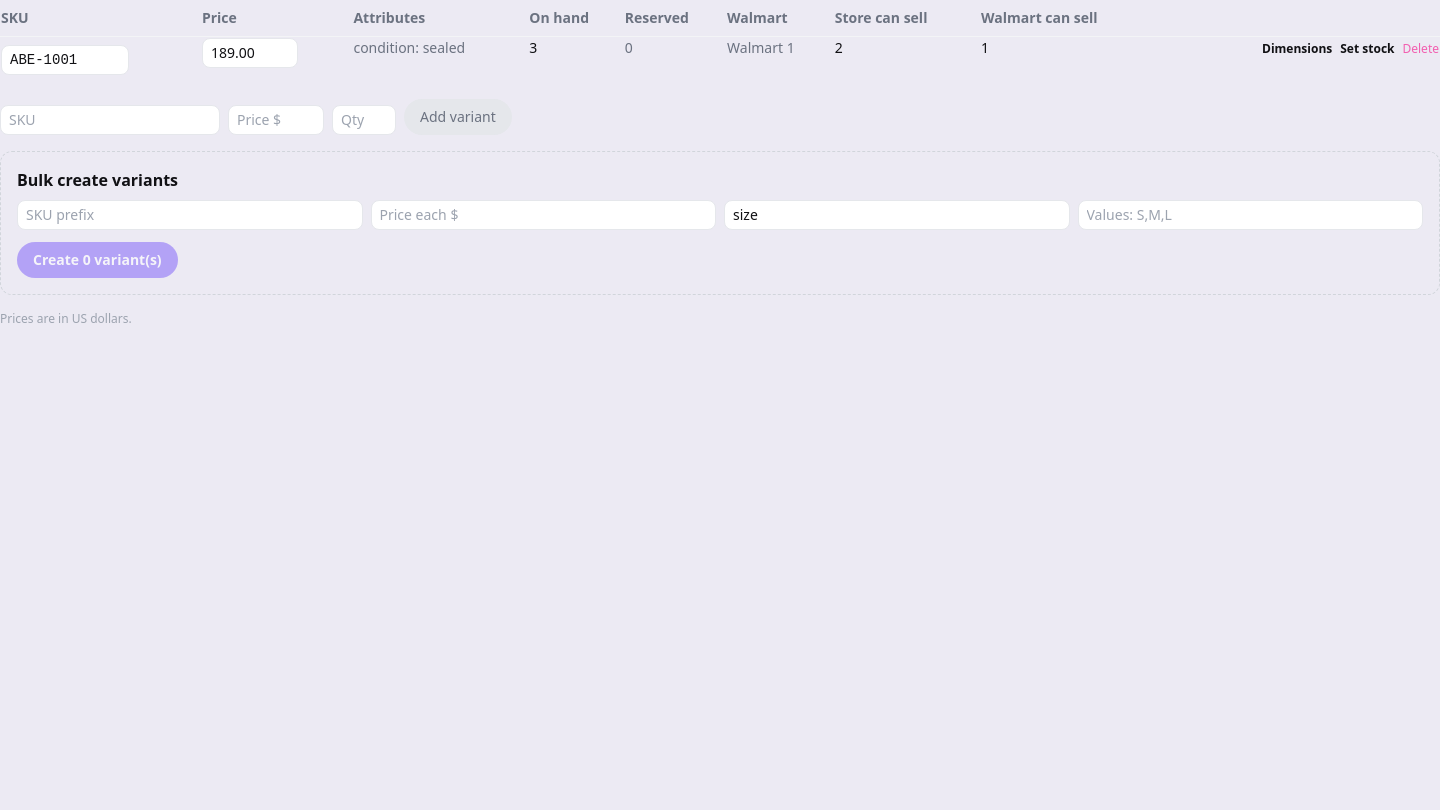
Test: VariantsTab › shows recent stock history in the dialog
This screenshot has width=1440, height=810.
Step 1. Click the button "Set stock" → (1367, 49), box [1340,41,1395,57]
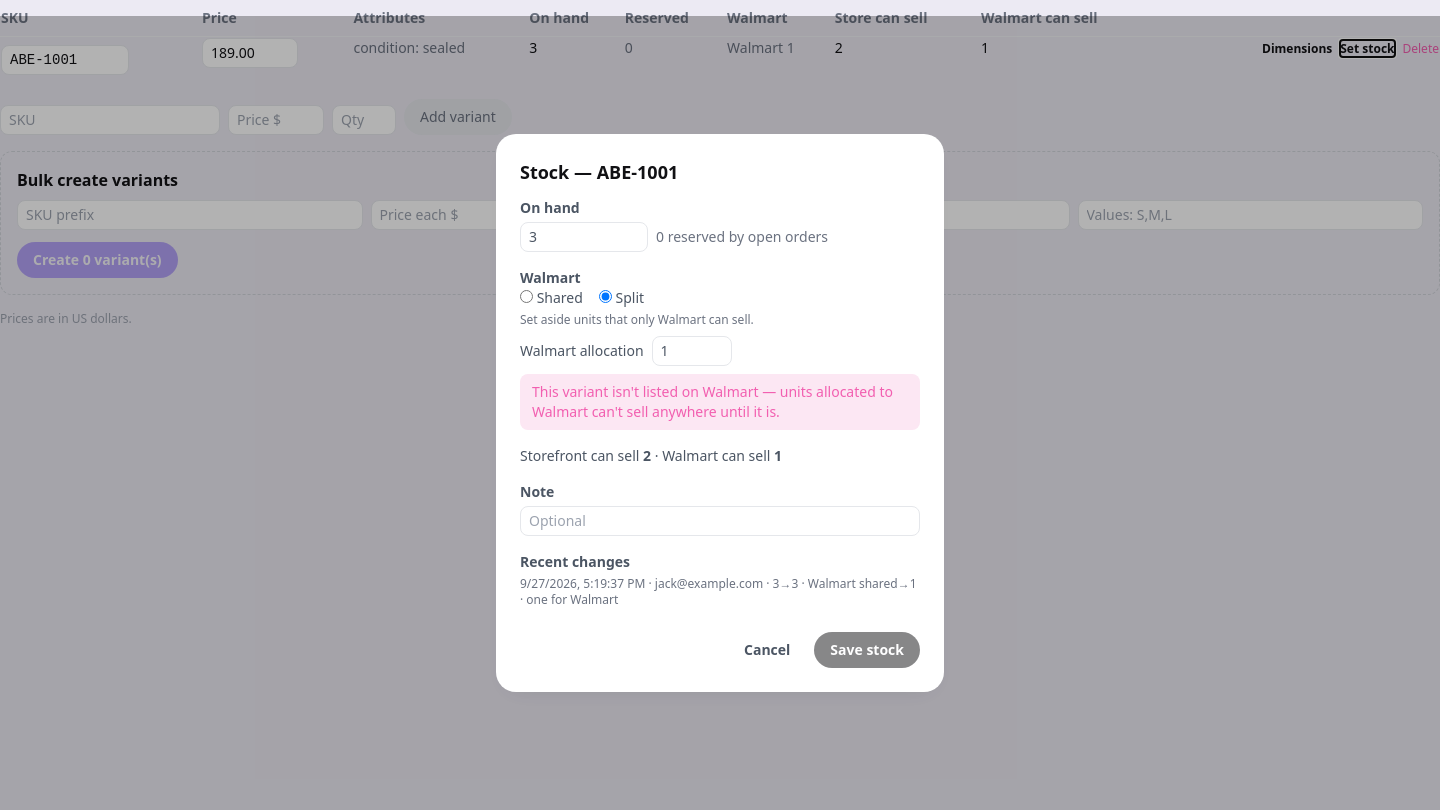
Expected: the list item "one for Walmart" is shown, [520,591,618,608]
